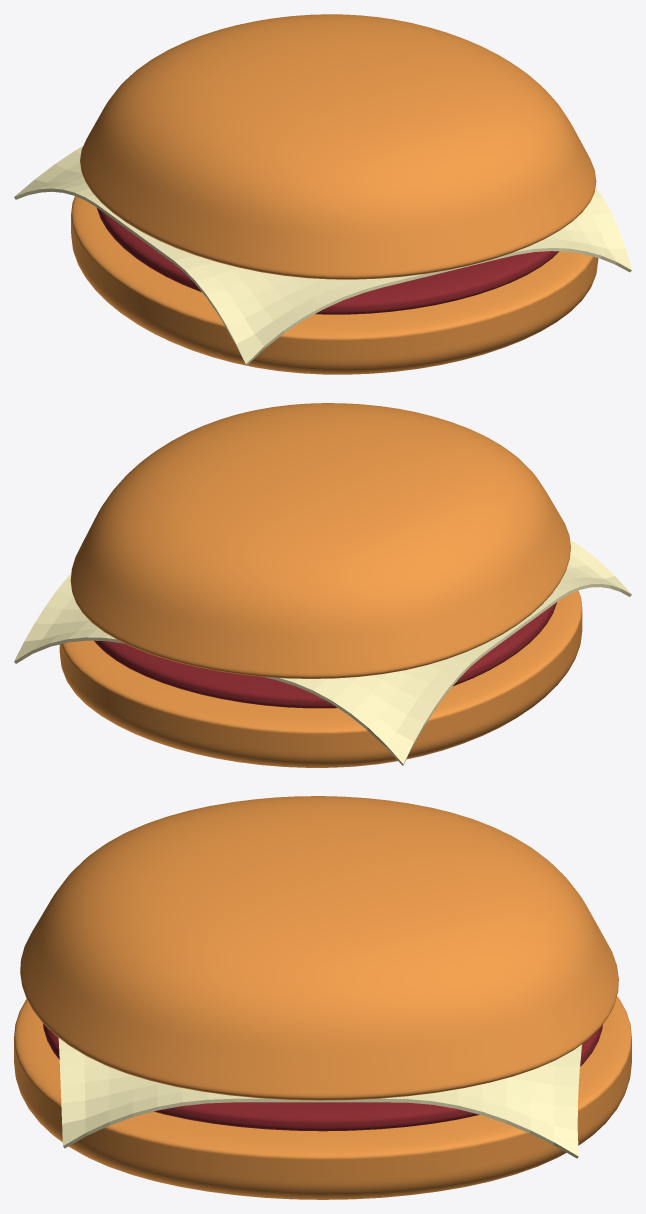
Rendered from humBarger.glb.
3 views of the same model, one above another, from view 1: azimuth 30°, elevation 25°; view 2: azimuth 150°, elevation 25°; view 3: azimuth 270°, elevation 25° (orthographic). The views are drawn at different scales.
Parts seen in each view (by area): view 1: Cube.002, Cube, Plane, Cube.001; view 2: Cube.002, Cube, Plane, Cube.001; view 3: Cube.002, Cube, Plane, Cube.001.
Part boxes in pixels (<box>): Cube.002: <box>80,14,596,279</box>; Cube: <box>71,196,598,374</box>; Plane: <box>14,146,631,365</box>; Cube.001: <box>97,208,558,314</box>; Cube.002: <box>70,403,570,678</box>; Cube: <box>59,590,582,767</box>; Plane: <box>14,539,631,765</box>; Cube.001: <box>94,602,556,708</box>; Cube.002: <box>20,796,618,1100</box>; Cube: <box>14,996,631,1199</box>; Plane: <box>58,1038,582,1158</box>; Cube.001: <box>43,1023,602,1131</box>.
Bounding box in the file's own units: 9.01 × 4.39 × 9.64.
